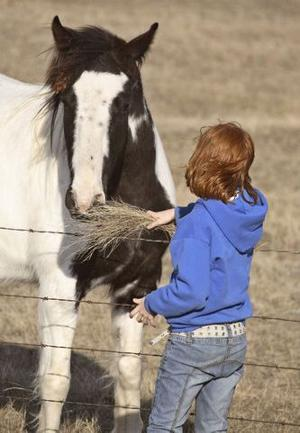person: (130, 123, 267, 433)
